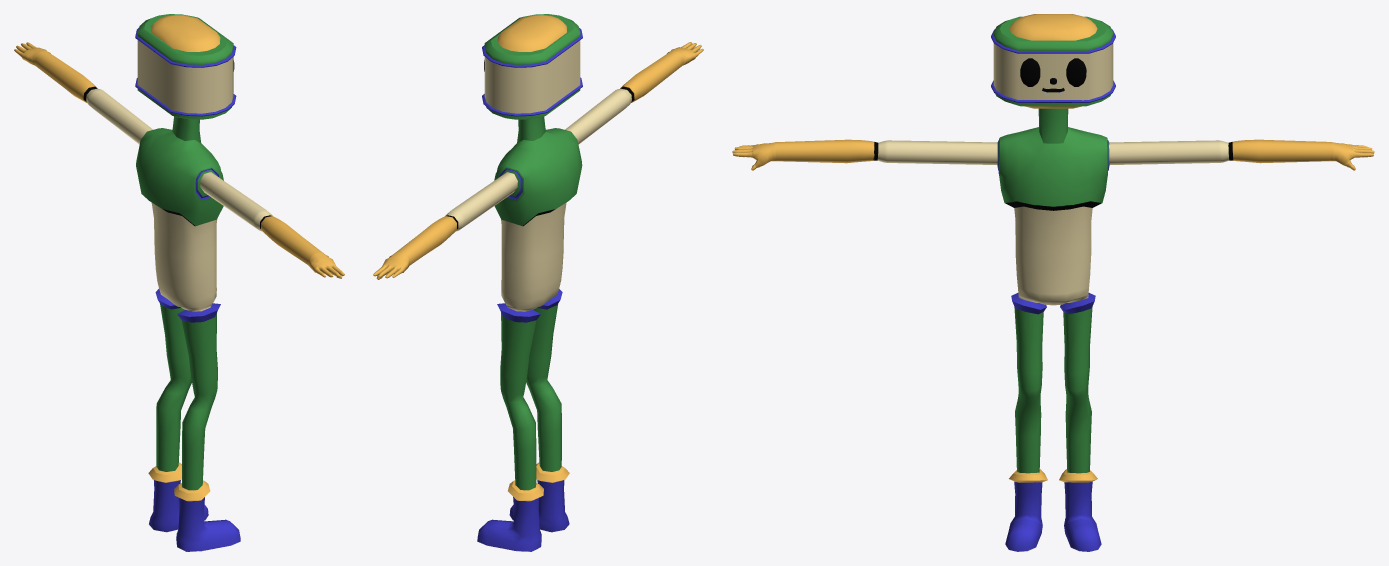
File: Mr Zurb Zurb.glb
3 views of the same model, side by side, from view 1: azimuth 30°, elevation 25°; view 2: azimuth 150°, elevation 25°; view 3: azimuth 270°, elevation 25° (orthographic).
Visible parts, largest first — view 1: _100Avatars_116_MrZurbZurb; view 2: _100Avatars_116_MrZurbZurb; view 3: _100Avatars_116_MrZurbZurb.
Part boxes in pixels (x1,y1,x2,y2): _100Avatars_116_MrZurbZurb: [14, 14, 344, 551]; _100Avatars_116_MrZurbZurb: [373, 14, 703, 551]; _100Avatars_116_MrZurbZurb: [732, 14, 1374, 551].
Bounding box in the file's own units: 0.7649 × 4.98 × 5.66.
1 material, 1 textured.
